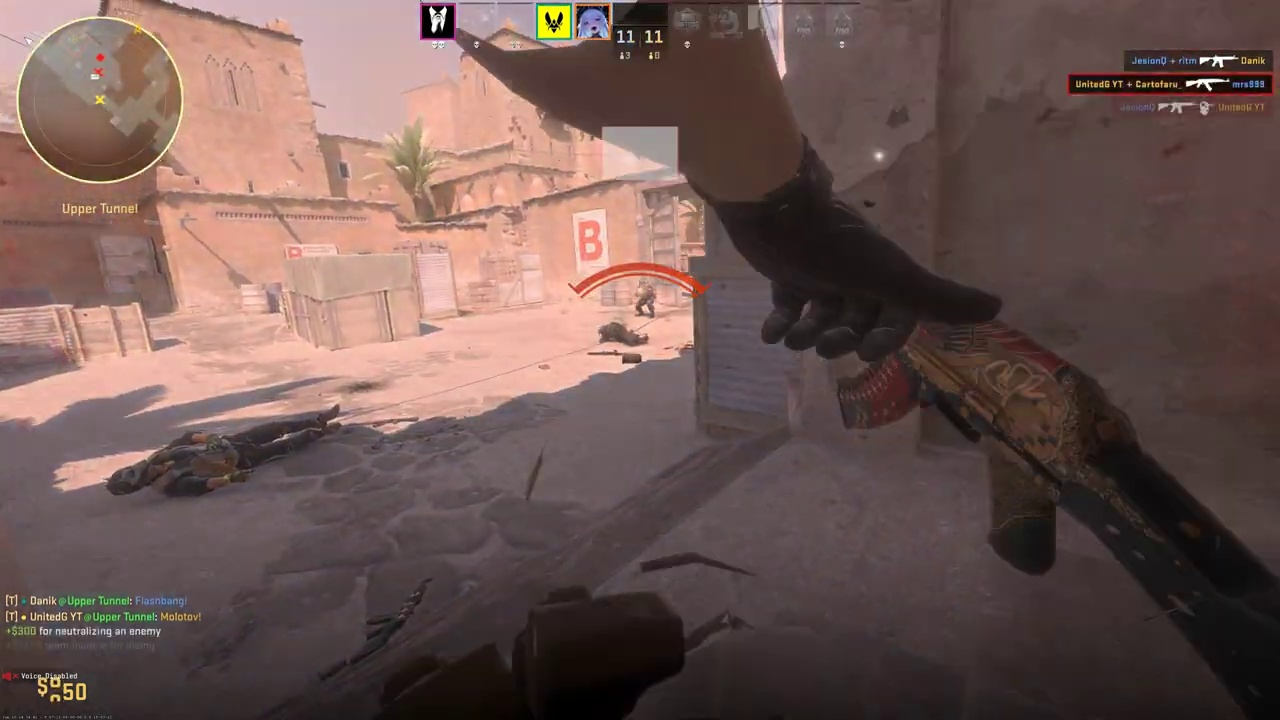CT: (636, 280, 654, 318)
